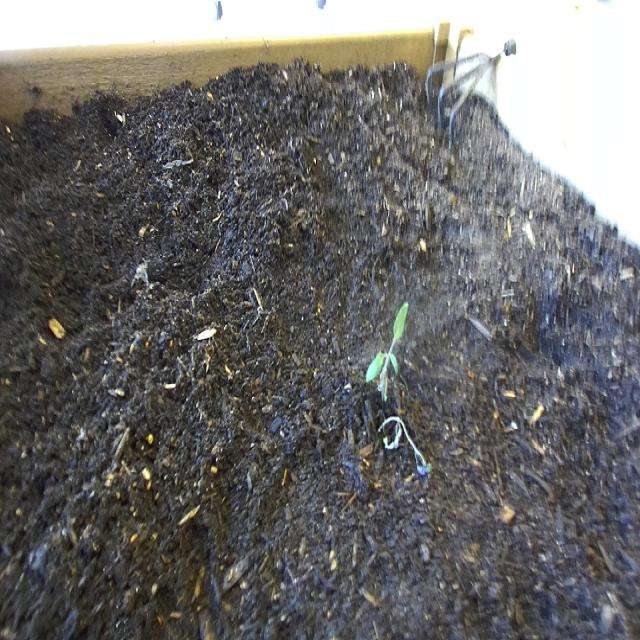Healthy: (362, 290, 414, 408)
Unhealthy: (376, 409, 434, 486)
